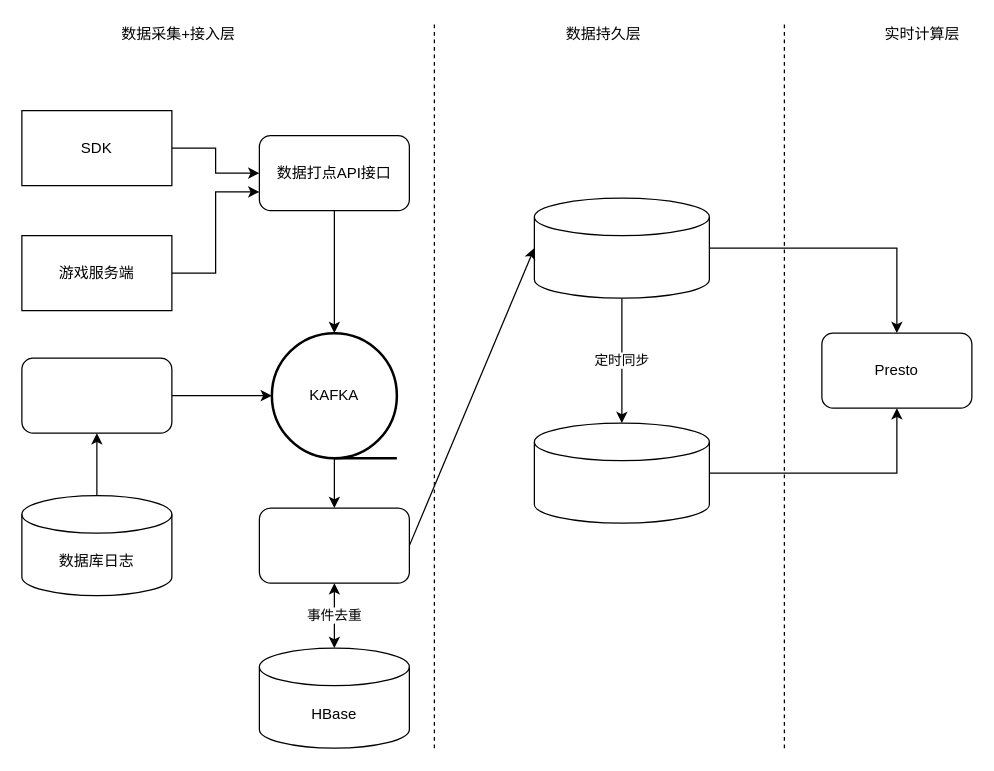
This 994x771 diagram has some shape labels left out. The shapes that lost their labels are listed below. From the top down, each one's box as (x1, y1, x2, y2) in pixels, then its label:
(533, 197, 709, 298): Kudu
(21, 357, 172, 433): ETL
(533, 422, 709, 523): Hive
(258, 507, 409, 583): 批处理工具
